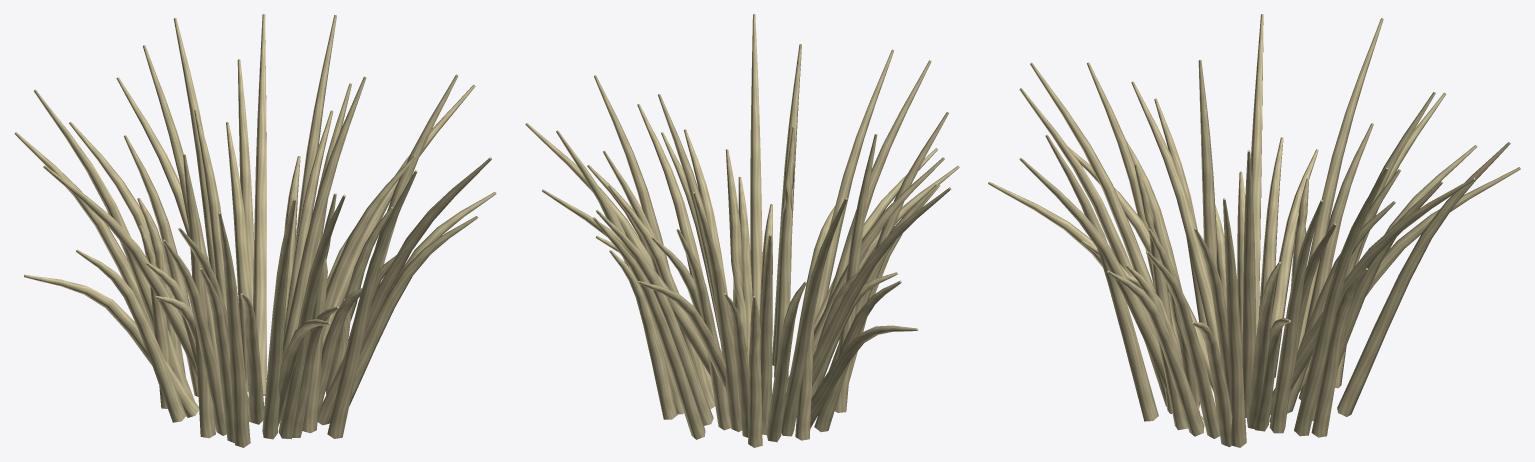
File: exotic-wildlife-hd-savanna-grass-clump-390b90a6__30223.glb
3 views of the same model, side by side, from view 1: azimuth 30°, elevation 25°; view 2: azimuth 150°, elevation 25°; view 3: azimuth 270°, elevation 25° (orthographic). The views are drawn at different scales.
Parts seen in each view (by area): view 1: savanna-grass-clump; view 2: savanna-grass-clump; view 3: savanna-grass-clump.
Boxes of the visible parts, x1,y1,x2,y2 form: savanna-grass-clump: (14, 14, 496, 447); savanna-grass-clump: (525, 14, 959, 447); savanna-grass-clump: (988, 14, 1520, 447).
Size of the model in its own units: 1.36 by 0.9119 by 1.41.
Materials: 1 (1 with a texture image).
